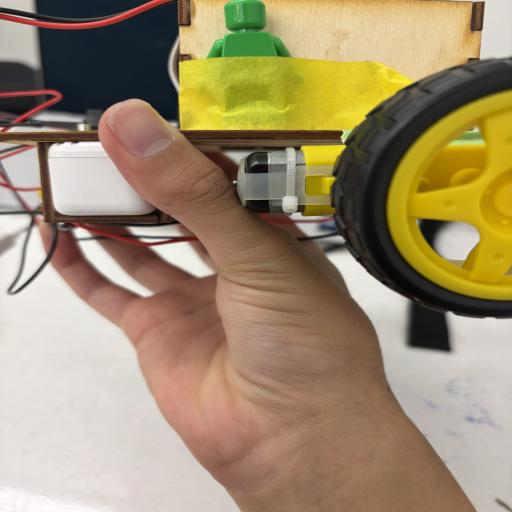Green-Lego: (207, 0, 291, 59)
